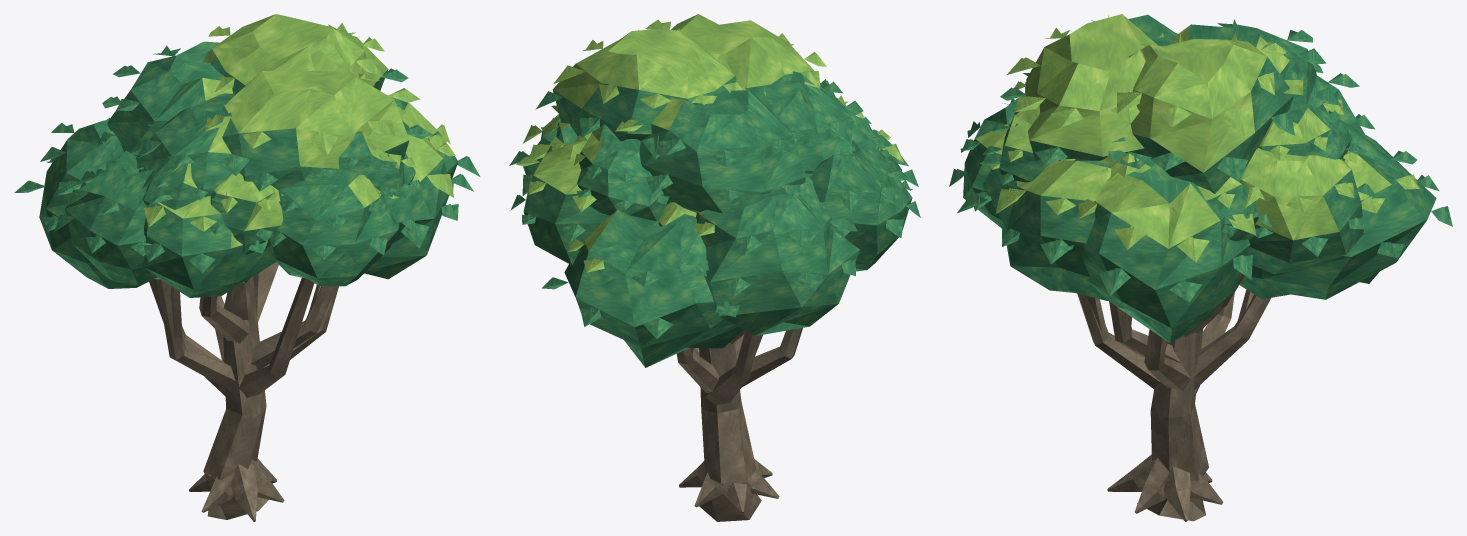
Rendered from HollowOak.fbx.
The picture shows the model from 3 angles, left to right: view 1: azimuth 30°, elevation 25°; view 2: azimuth 150°, elevation 25°; view 3: azimuth 270°, elevation 25°; orthographic projection. The views are drawn at different scales.
Parts seen in each view (by area): view 1: HollowOak; view 2: HollowOak; view 3: HollowOak.
Part boxes in pixels (x1,y1,x2,y2): HollowOak: (14,14,480,521); HollowOak: (509,14,920,521); HollowOak: (949,14,1452,521).
Size of the model in its own units: 761 by 857 by 771.
1 material, 1 textured.
